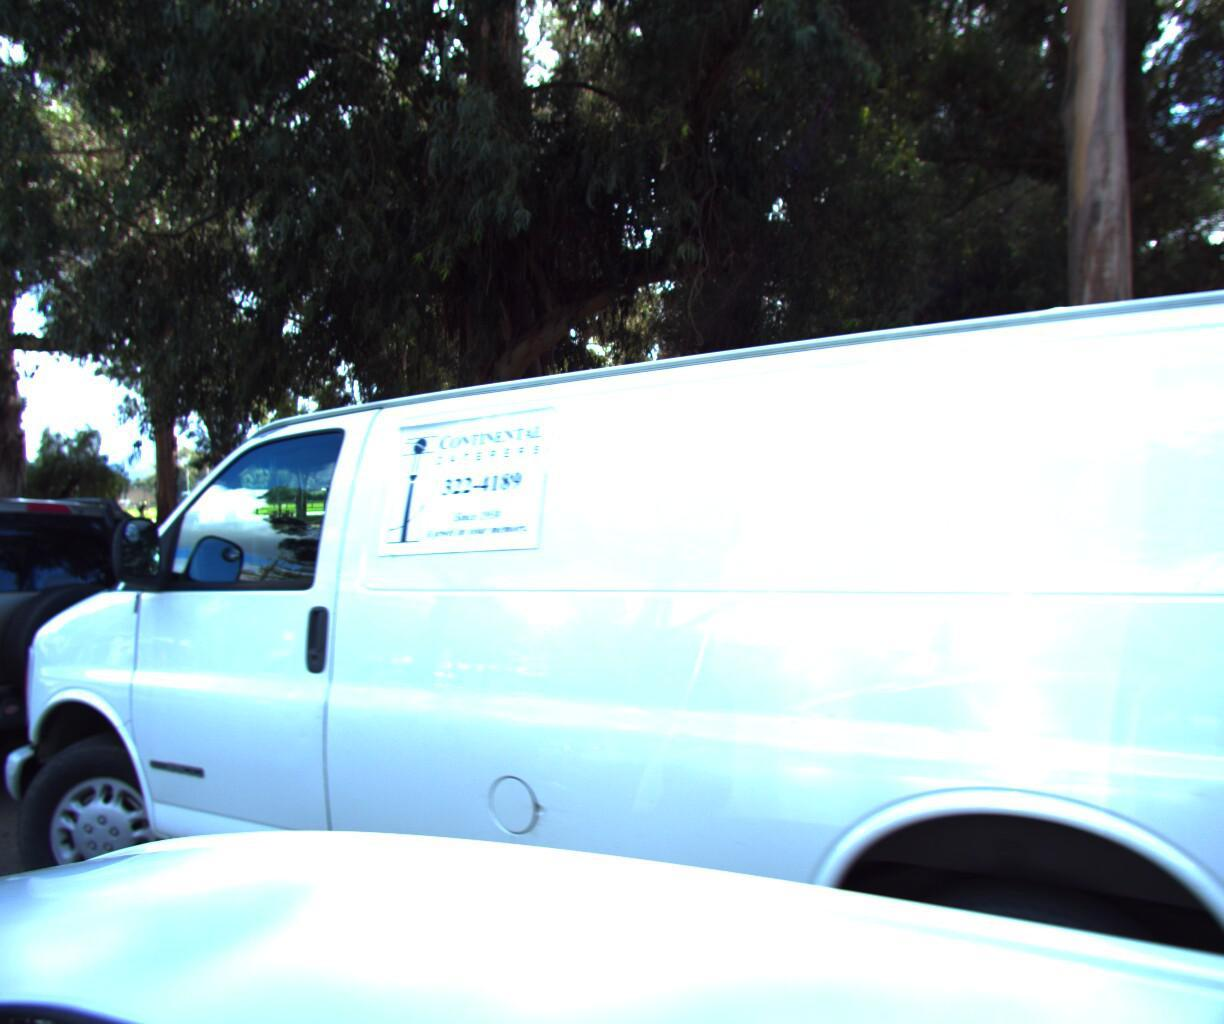car: (0, 23, 1224, 1024), (0, 475, 237, 874)
